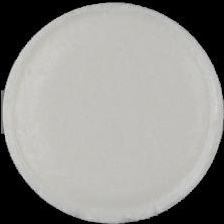43353-737: (0, 0, 224, 224)
